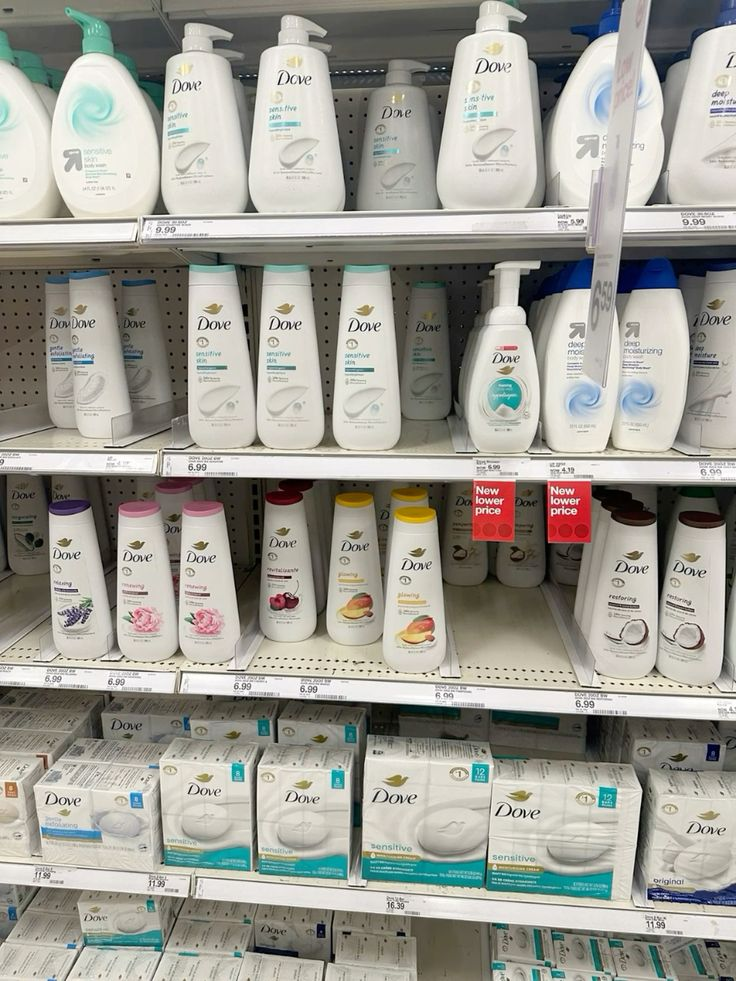Shampoo: (437, 0, 536, 208), (333, 266, 400, 448), (384, 507, 445, 672)
